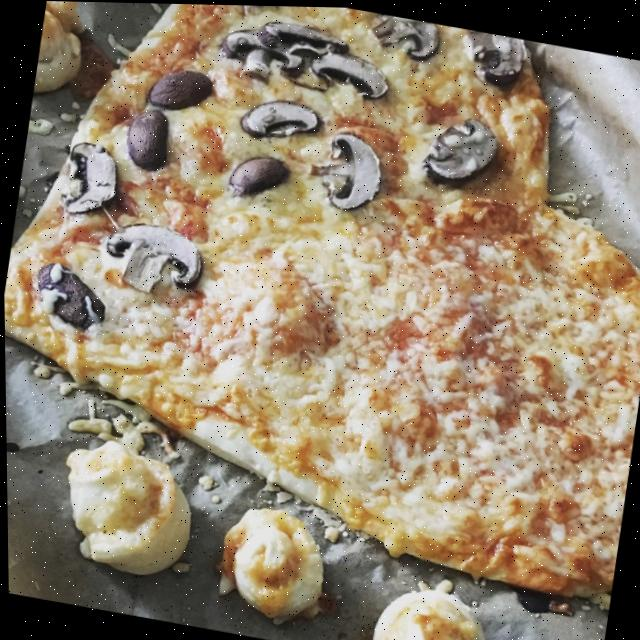mushrooms: (213, 6, 396, 103), (95, 215, 207, 300), (421, 108, 502, 189), (27, 256, 109, 333), (318, 128, 388, 215), (235, 90, 325, 149), (63, 136, 123, 218), (455, 26, 529, 88), (145, 58, 218, 119), (363, 10, 443, 65), (121, 107, 176, 176), (227, 149, 287, 198), (243, 4, 310, 11)
pizza: (0, 0, 640, 600)
